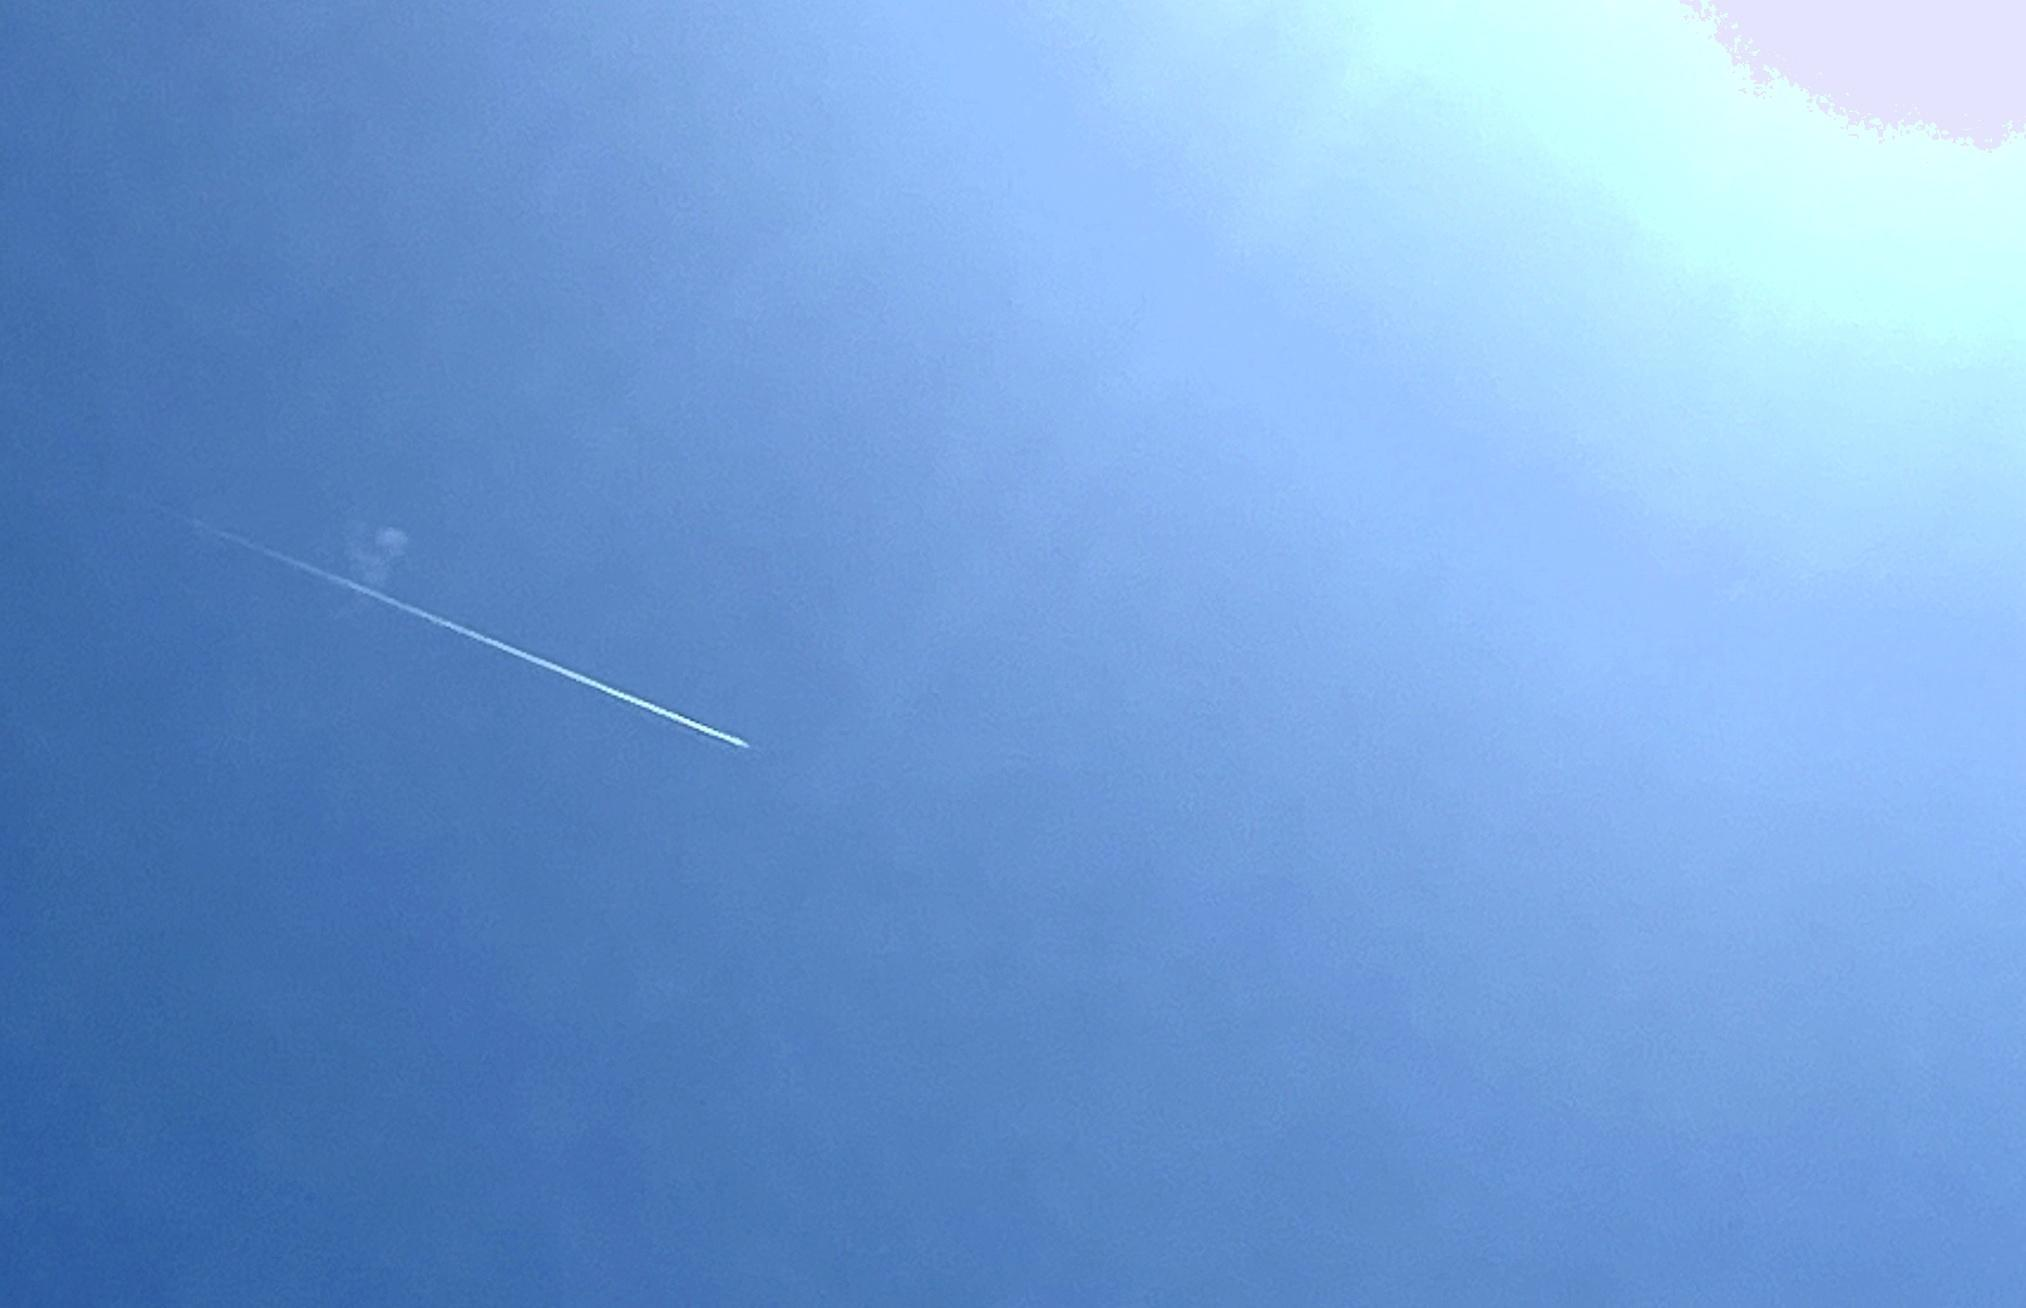Plane: (89, 369, 766, 765)
